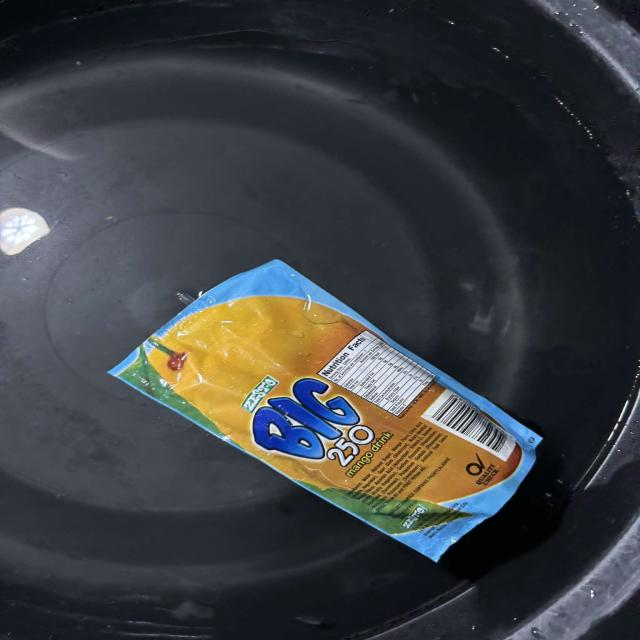Plastic Pouch: (109, 260, 541, 562)
